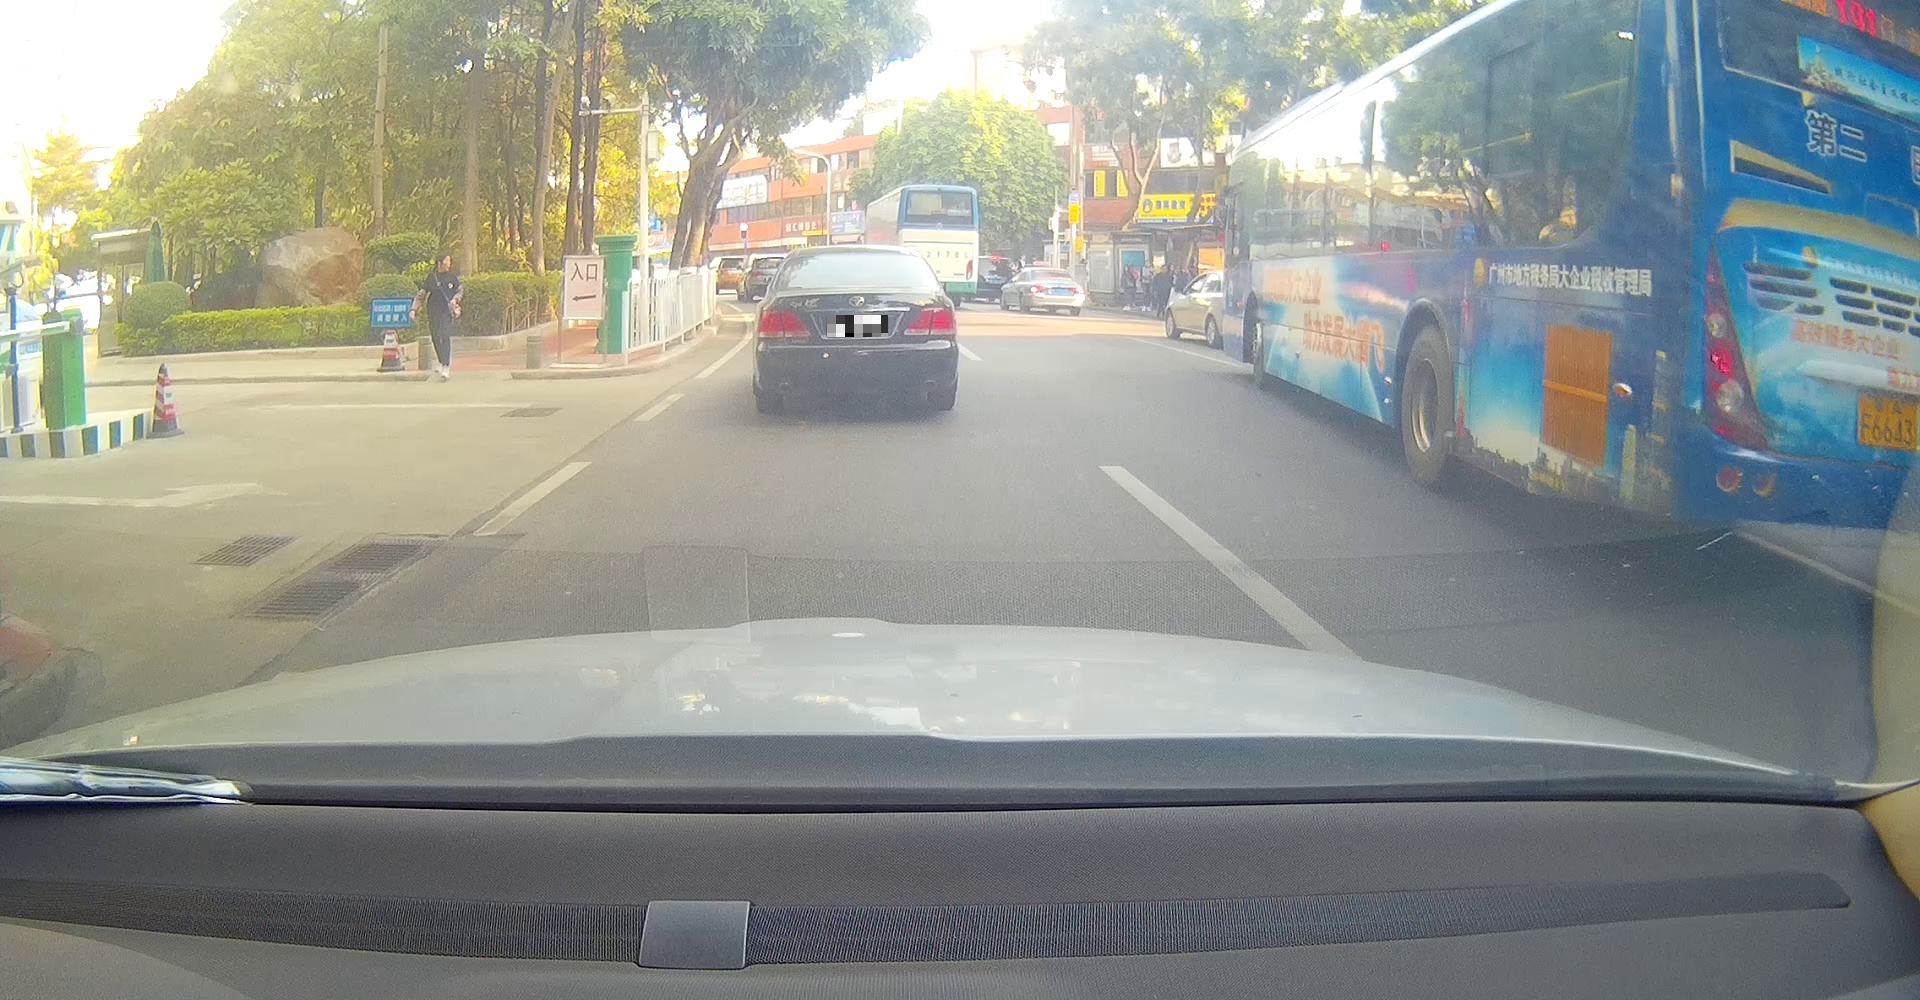L_light: (756, 308, 811, 338), (1029, 286, 1050, 293)
R_light: (903, 305, 957, 336), (1068, 288, 1084, 294)
T_light: (841, 283, 871, 288)
day-brake: (1029, 266, 1084, 316)
day-no: (750, 244, 959, 414)
plate_1: (827, 315, 888, 338)
